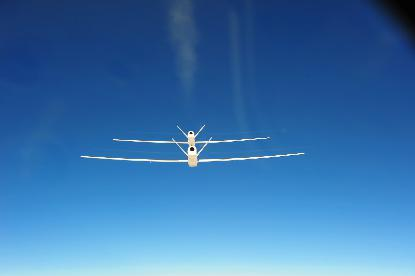P3: (79, 137, 304, 165), (112, 125, 269, 145)
